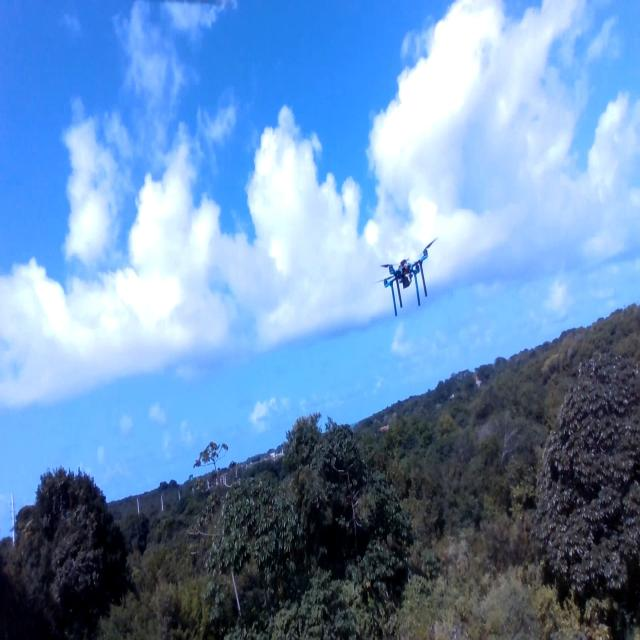-uav-: (376, 232, 442, 316)
